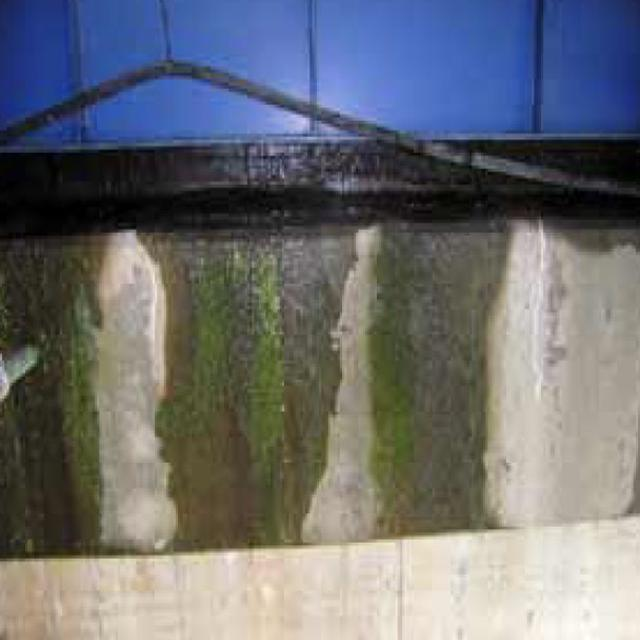leakage: (9, 150, 500, 550)
